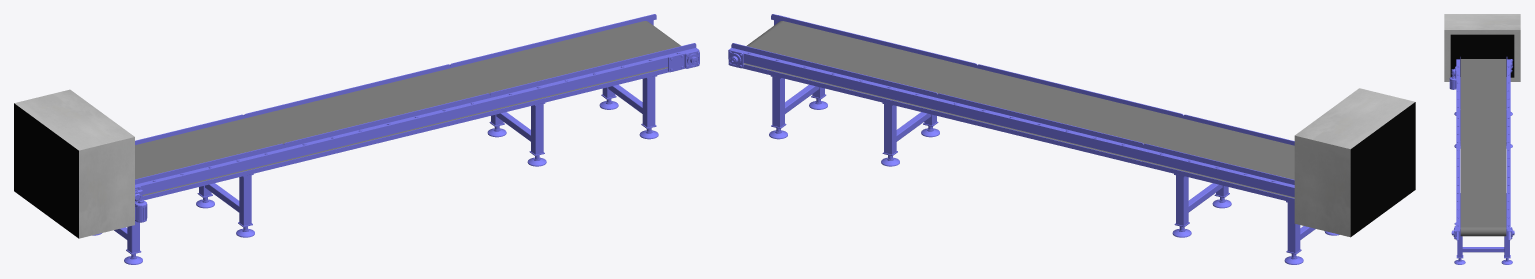
The model's file is ConveyorAndWall.fbx_Scene_Master_Collection.fbx.
3 views of the same model, side by side, from view 1: azimuth 30°, elevation 25°; view 2: azimuth 150°, elevation 25°; view 3: azimuth 270°, elevation 25° (orthographic). The views are drawn at different scales.
Visible parts, largest first — view 1: Belt, Cube, Side 1, Legs, Side 2, Legs 2, Attachment 2; view 2: Belt, Cube, Side 2, Legs, Side 1, Legs 2; view 3: Belt, Cube, Side 2, Side 1, Legs, Legs 2, Attachment 1, Attachment 2.
Boxes of the visible parts, bbox=[...] form: Belt: bbox=[135, 21, 680, 195]; Cube: bbox=[14, 89, 134, 238]; Side 1: bbox=[135, 43, 699, 200]; Legs: bbox=[487, 75, 658, 166]; Side 2: bbox=[135, 14, 656, 144]; Legs 2: bbox=[92, 173, 254, 264]; Attachment 2: bbox=[668, 50, 699, 72]; Belt: bbox=[743, 21, 1294, 198]; Cube: bbox=[1294, 88, 1415, 237]; Side 2: bbox=[728, 43, 1294, 202]; Legs: bbox=[769, 75, 939, 166]; Side 1: bbox=[771, 14, 1294, 145]; Legs 2: bbox=[1172, 173, 1339, 264]; Belt: bbox=[1460, 59, 1506, 236]; Cube: bbox=[1444, 14, 1520, 81]; Side 2: bbox=[1506, 57, 1510, 240]; Side 1: bbox=[1456, 57, 1460, 240]; Legs: bbox=[1454, 193, 1512, 264]; Legs 2: bbox=[1454, 77, 1512, 148]; Attachment 1: bbox=[1449, 66, 1456, 89]; Attachment 2: bbox=[1451, 222, 1456, 239].
Bounding box in the file's own units: 22.47 × 4.66 × 4.
4 materials, 3 textured.
